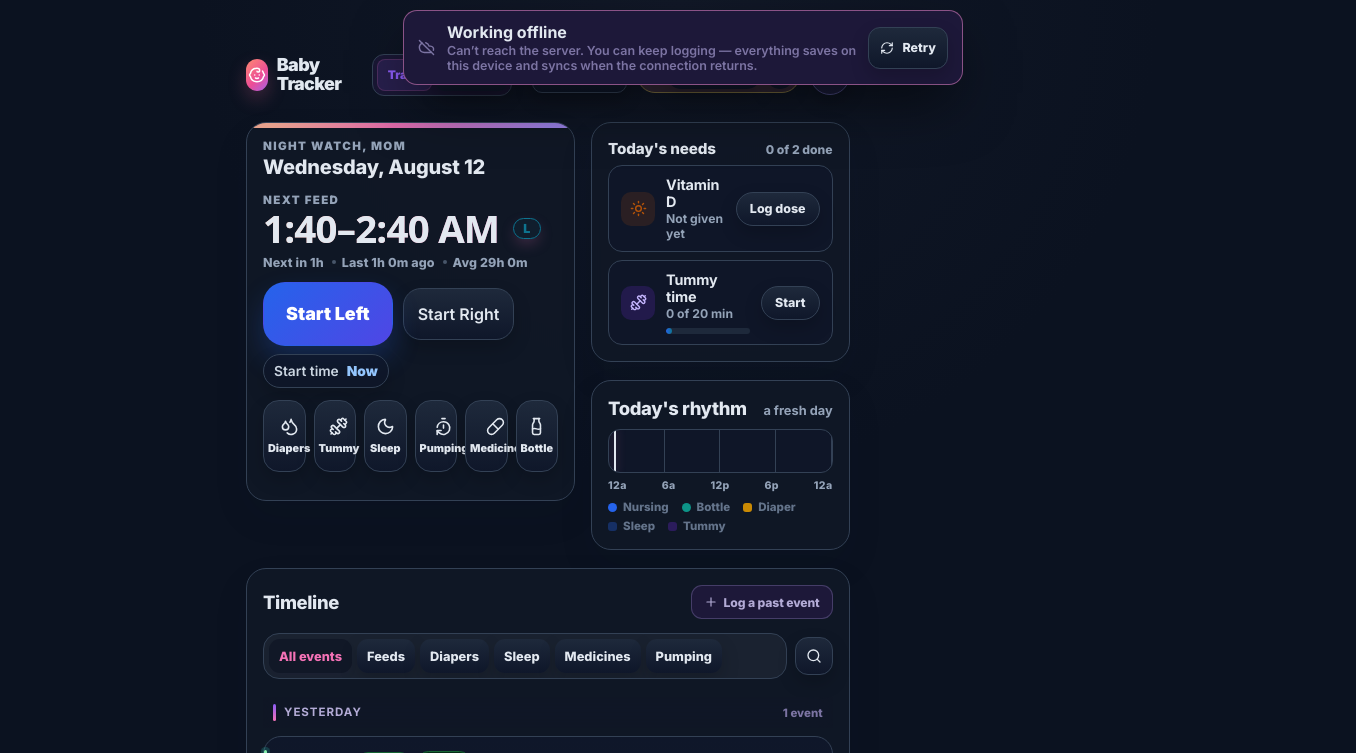
it: finding things in the timeline › opens on the magnifier and puts the cursor in the box
The width and height of the screenshot is (1366, 753).
What coordinates should you click on to do the following:
click the button named "Search and jump to a date"
I would click on:
 (814, 656)
Its box is x1=795 y1=637 x2=833 y2=675.
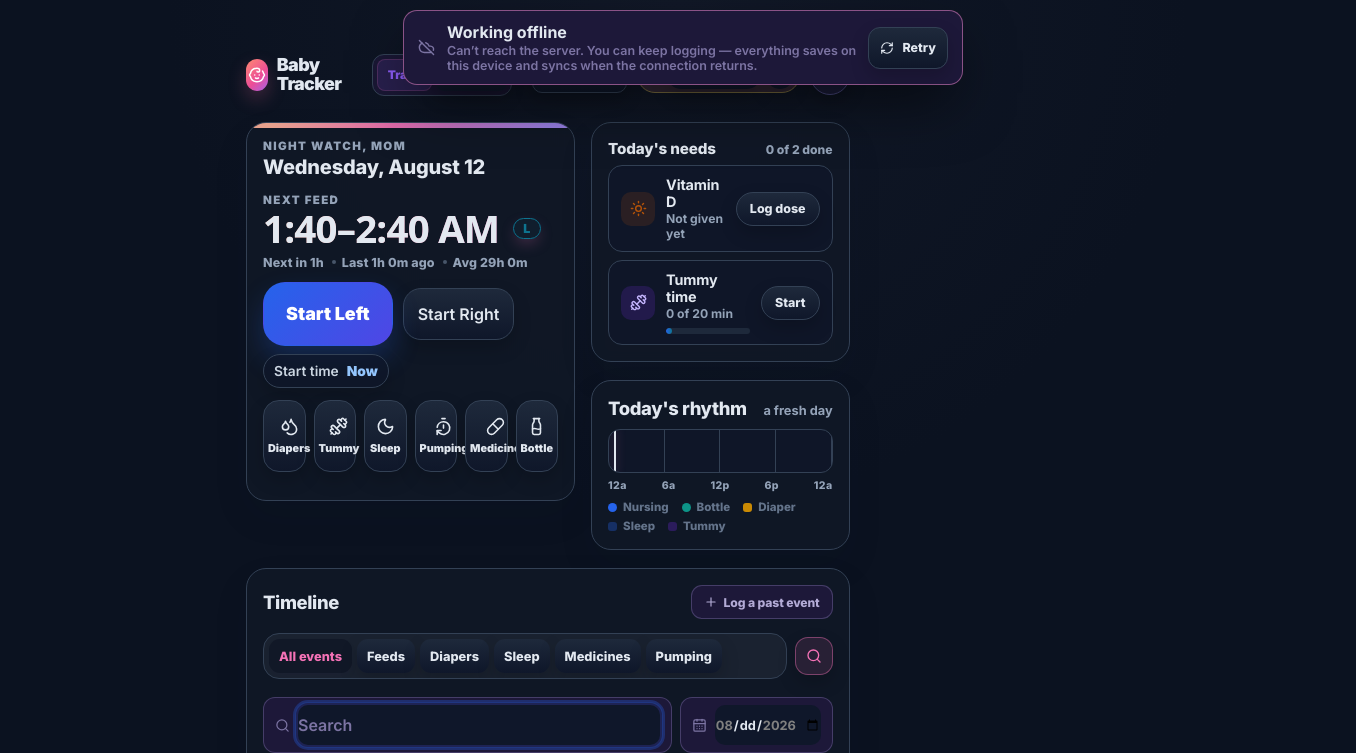
expect the button named "Search and jump to a date" is expanded: met, box x1=795 y1=637 x2=833 y2=675
expect the date field named "Jump to date" is shown: met, box x1=715 y1=705 x2=821 y2=745
